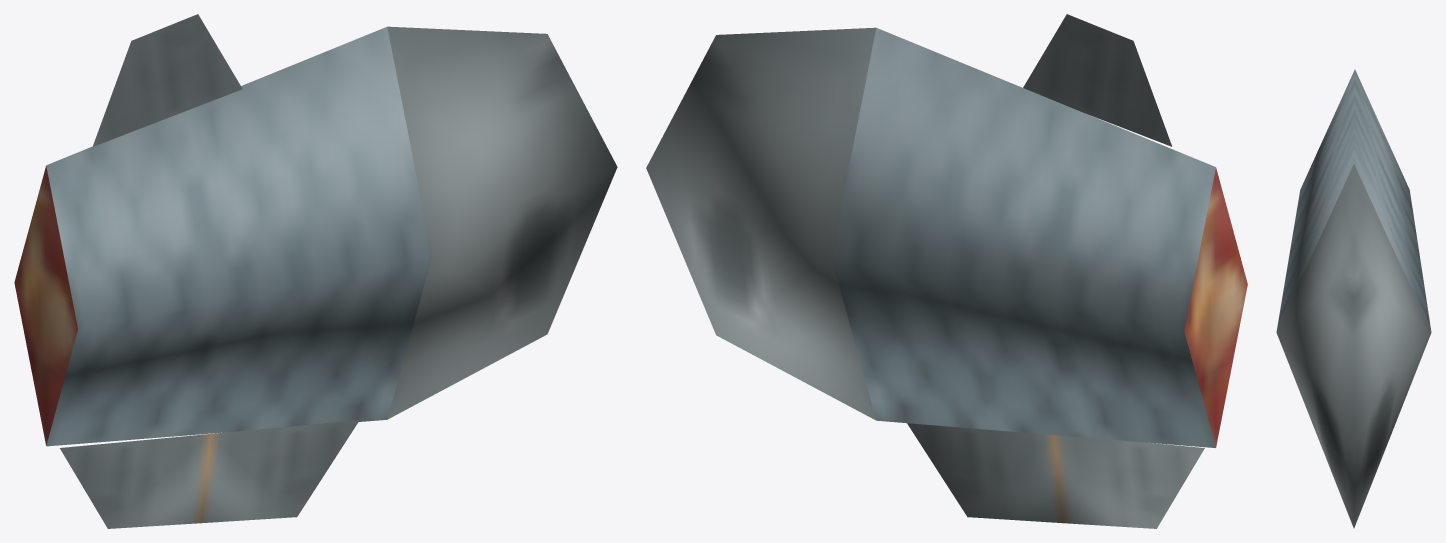
File: Fish_B.fbx
3 views of the same model, side by side, from view 1: azimuth 30°, elevation 25°; view 2: azimuth 150°, elevation 25°; view 3: azimuth 270°, elevation 25° (orthographic). The views are drawn at different scales.
Parts seen in each view (by area): view 1: Fish_B; view 2: Fish_B; view 3: Fish_B.
Boxes of the visible parts, bbox=[...] form: Fish_B: bbox=[14, 14, 617, 528]; Fish_B: bbox=[646, 14, 1247, 528]; Fish_B: bbox=[1276, 69, 1431, 528].
Bounding box in the file's own units: 0.49 × 0.4327 × 0.1341.
